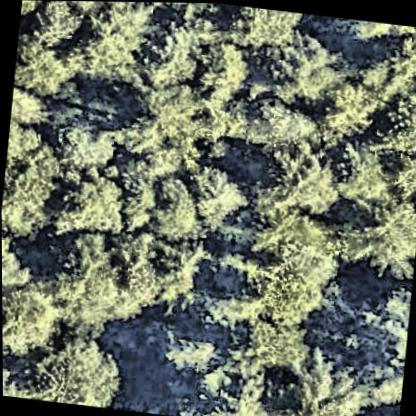tree-top: (44, 226, 164, 345), (127, 71, 225, 170), (233, 152, 339, 238), (330, 192, 416, 282), (1, 118, 62, 244), (253, 206, 346, 284), (22, 330, 115, 407), (259, 27, 344, 104), (177, 351, 275, 416), (236, 91, 322, 164), (49, 165, 126, 245), (136, 167, 204, 250), (10, 32, 78, 111), (149, 6, 211, 92), (82, 1, 157, 71), (179, 158, 249, 233), (247, 262, 321, 332), (46, 98, 116, 172), (362, 277, 412, 376), (277, 361, 365, 416), (2, 280, 60, 361), (310, 69, 376, 140), (361, 20, 416, 104), (235, 312, 307, 374), (220, 3, 304, 56), (367, 68, 416, 158), (330, 140, 392, 211), (111, 152, 158, 242), (152, 238, 209, 304), (17, 0, 82, 49), (197, 41, 250, 100), (154, 322, 214, 372), (376, 147, 416, 198), (1, 234, 35, 292), (9, 88, 52, 126)
